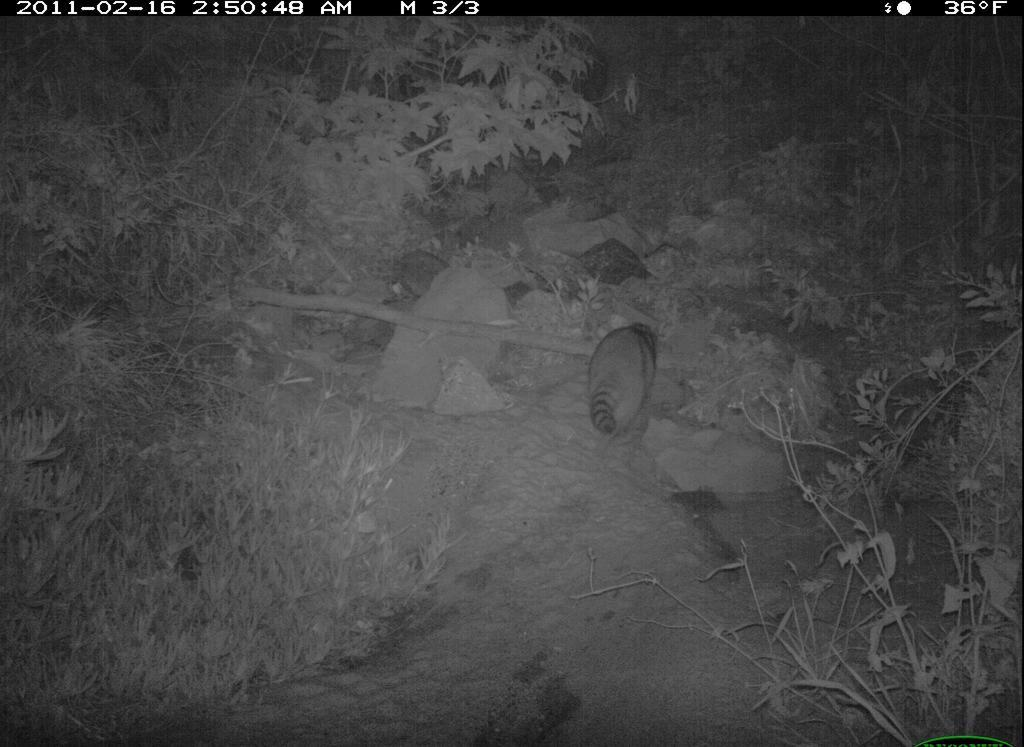raccoon: (577, 313, 669, 455)
